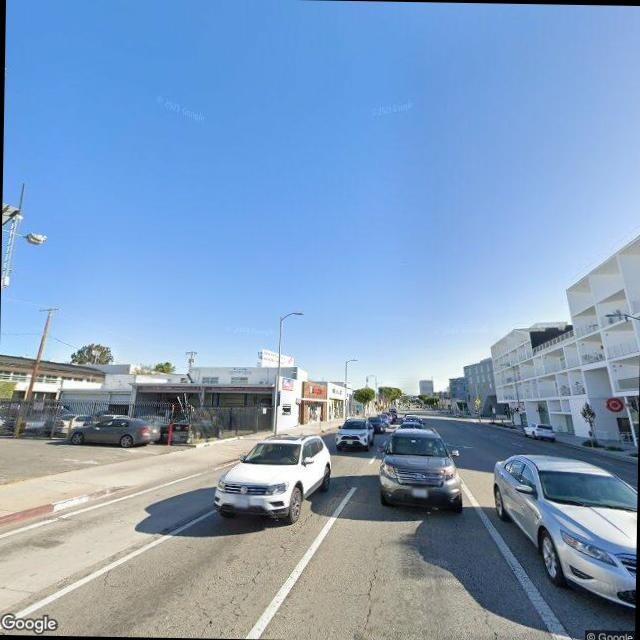crack: (178, 522, 300, 638), (455, 529, 509, 640), (356, 530, 388, 638)
